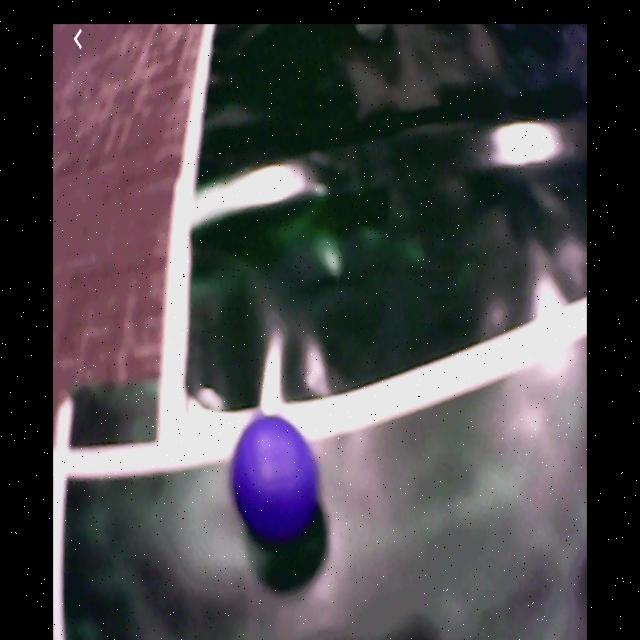ball: (228, 413, 319, 547)
